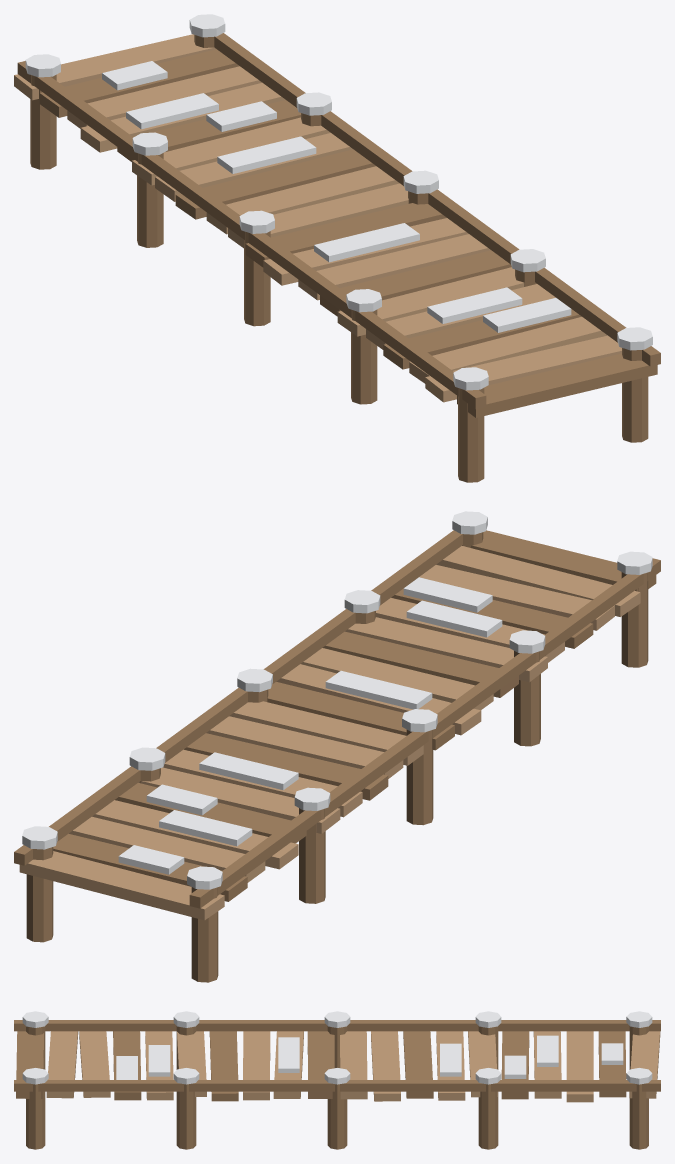
Rendered from pier.glb.
3 views of the same model, one above another, from view 1: azimuth 30°, elevation 25°; view 2: azimuth 150°, elevation 25°; view 3: azimuth 270°, elevation 25° (orthographic). The views are drawn at different scales.
Visible parts, largest first — view 1: RailR, RailL, Board0, Board12, Board2, Board7, Board11, Board1, Board9, Board14, Board19, Board17 (+33 smaller); view 2: RailR, RailL, Board19, Board1, Board6, Board5, Board11, Board10, Board12, Board17, Board2, Board9 (+33 smaller); view 3: RailL, RailR, Board17, Board11, Board6, Board7, Board12, Board1, Board2, Board10, Board9, Post.003 (+37 smaller).
Boxes of the visible parts, x1,y1,x2,y2 form: RailR: (17, 61, 486, 408); RailL: (214, 33, 660, 366); Board0: (457, 353, 657, 417); Board12: (175, 149, 375, 219); Board2: (409, 317, 607, 383); Board7: (298, 234, 490, 300); Board11: (206, 166, 399, 234); Board1: (425, 335, 621, 402); Board9: (245, 203, 446, 267); Board14: (132, 117, 330, 185); Board19: (14, 34, 216, 100); Board17: (67, 66, 261, 128); RailR: (189, 558, 660, 908); RailL: (14, 530, 462, 865); Board19: (19, 851, 224, 920); Board1: (436, 546, 640, 616); Board6: (322, 631, 518, 697); Board5: (345, 617, 547, 682); Board11: (206, 716, 403, 778); Board10: (229, 701, 423, 765); Board12: (184, 733, 388, 800); Board17: (69, 816, 265, 882); Board2: (419, 565, 614, 630); Board9: (267, 682, 454, 750); RailL: (14, 1080, 660, 1091); RailR: (14, 1020, 660, 1031); Board17: (566, 1031, 593, 1102); Board11: (371, 1031, 400, 1101); Board6: (209, 1031, 238, 1101); Board7: (243, 1031, 270, 1100); Board12: (403, 1031, 433, 1098); Board1: (46, 1031, 78, 1098); Board2: (79, 1031, 110, 1097); Board10: (340, 1031, 367, 1099); Board9: (307, 1031, 334, 1098); Post.003: (176, 1084, 196, 1149).
Bounding box in the file's own units: 1.52 × 0.74 × 6.
